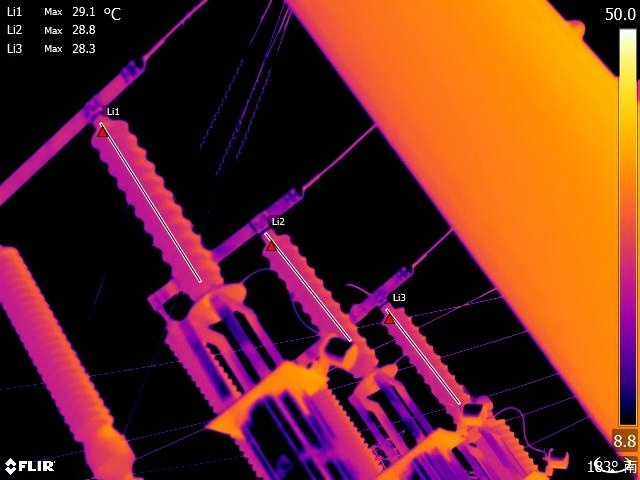post insulator: (1, 243, 135, 467), (93, 115, 226, 293), (163, 315, 276, 479), (387, 306, 475, 416), (264, 225, 349, 330), (488, 412, 539, 480)
switch: (148, 173, 304, 310), (287, 257, 416, 369)
